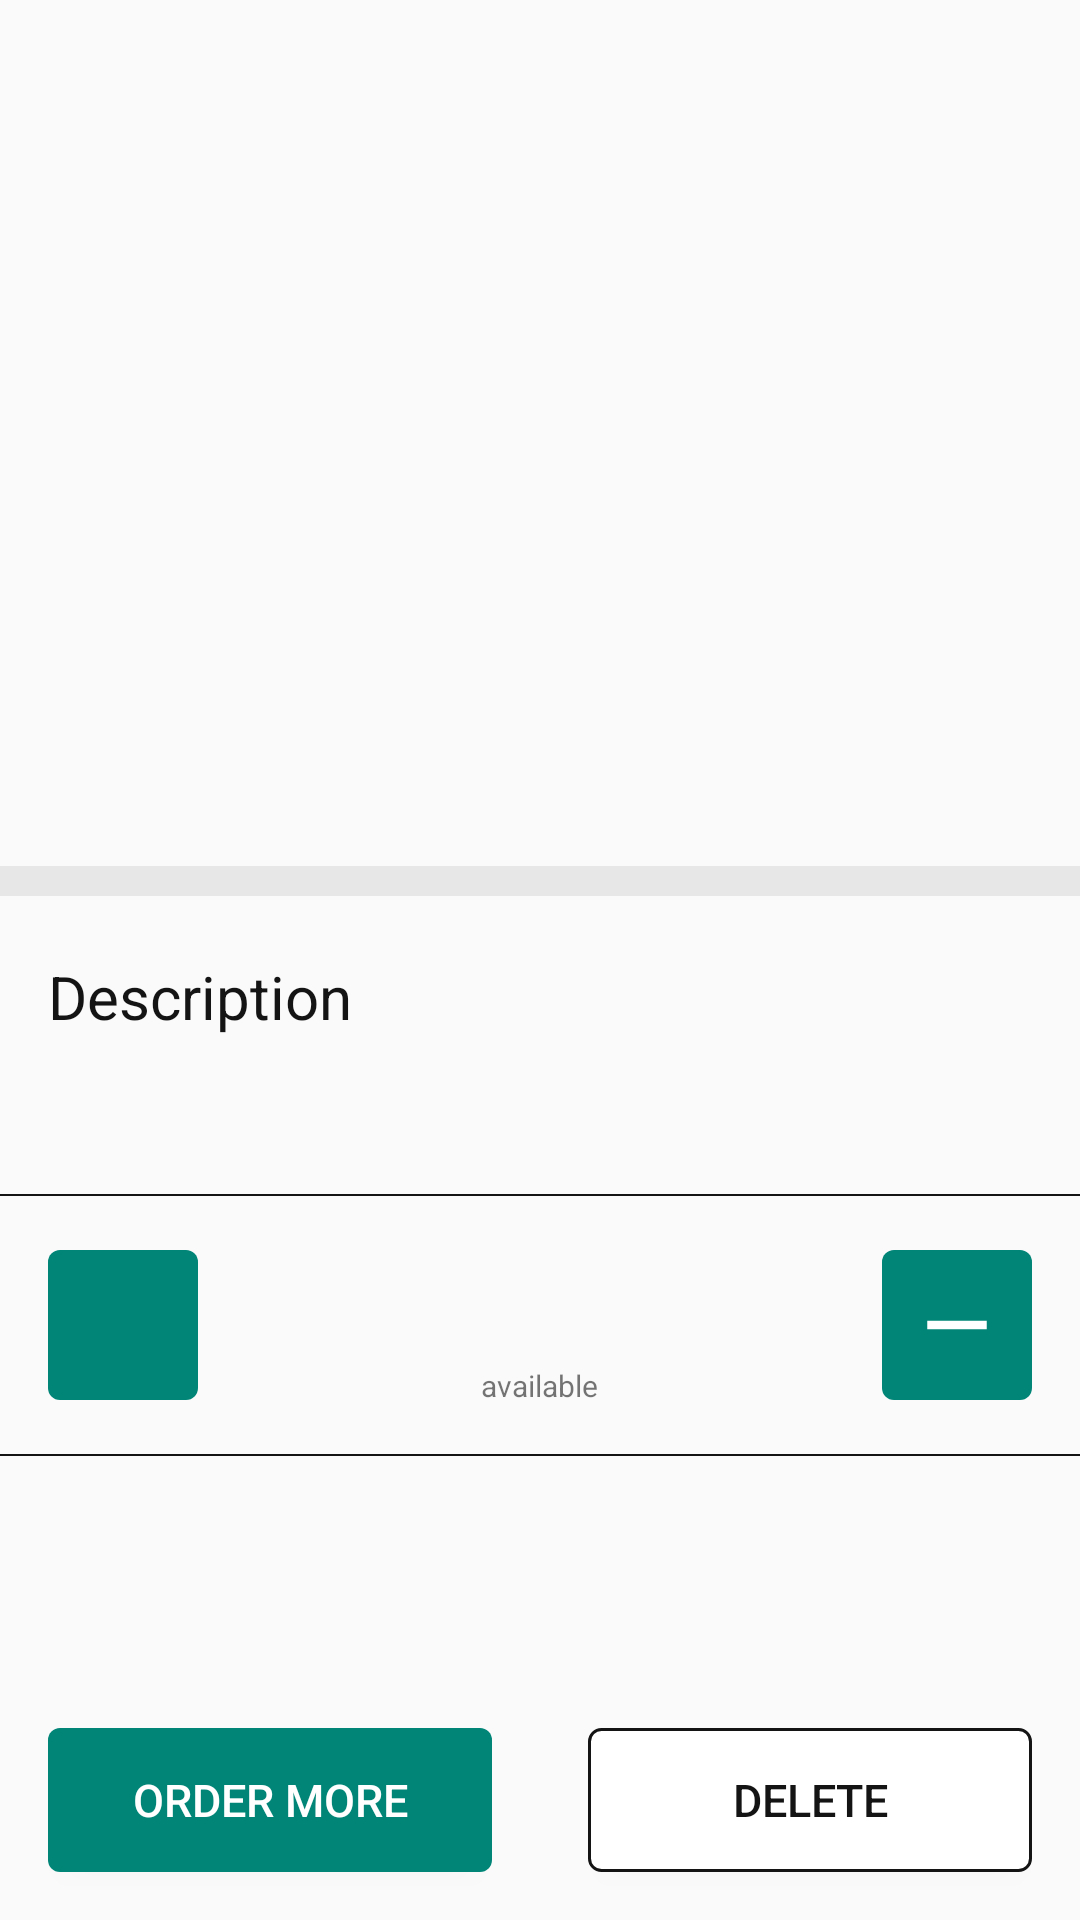

Locate icon controls on the screen. Image size 1080×1920, boxes as (x1, y1, x2, y2).
remove: (882, 1250, 1032, 1400)
